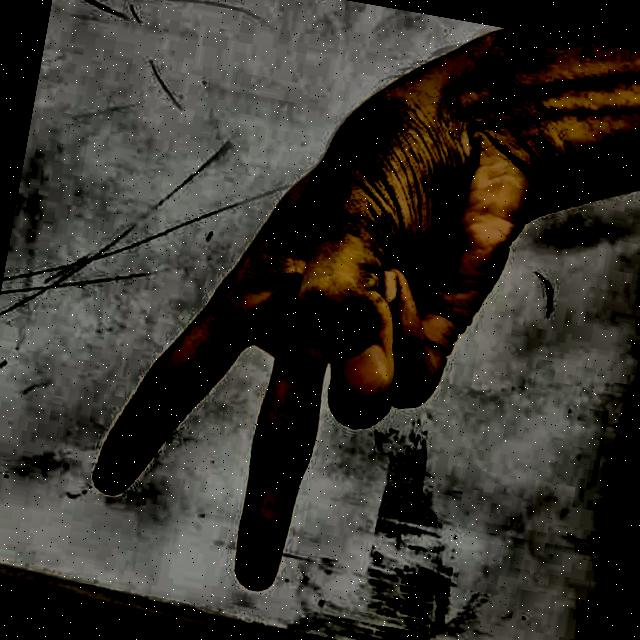Pa: (44, 10, 562, 640)
